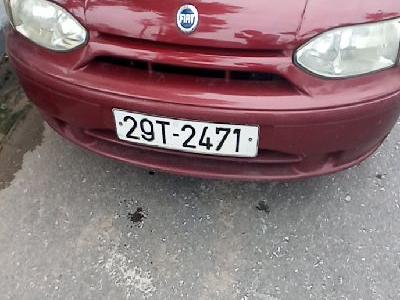car: (111, 107, 260, 160)
